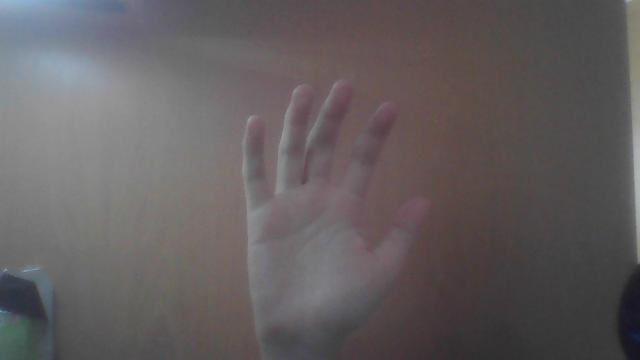Stop: (240, 72, 444, 342)
